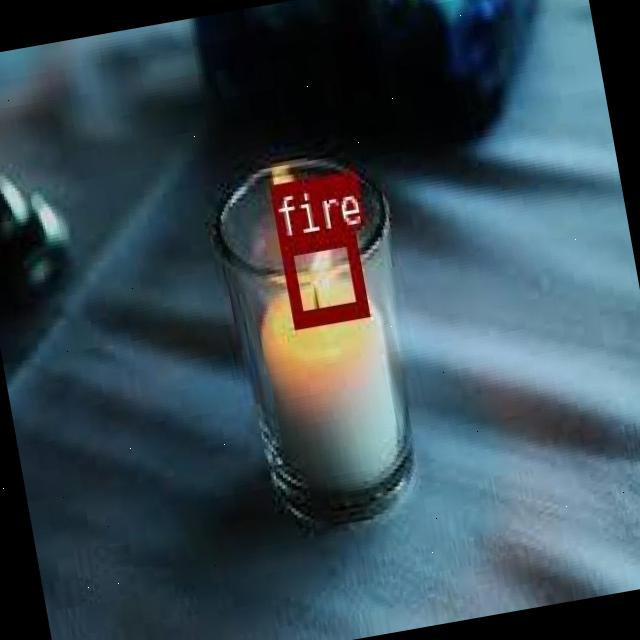fire: (278, 227, 366, 324)
